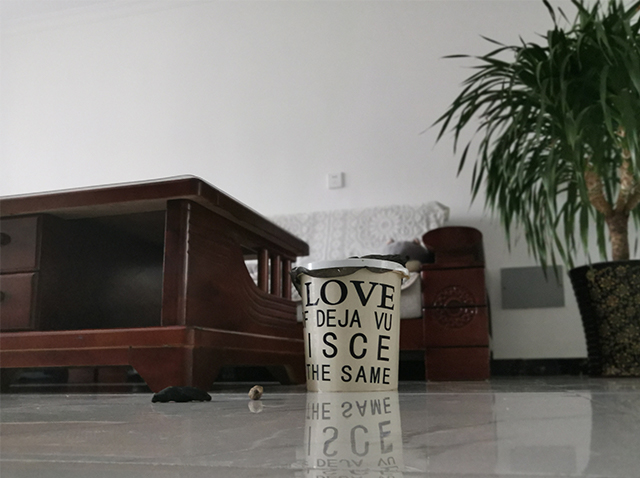feces: (148, 381, 214, 405), (247, 384, 268, 402)
sofa: (301, 197, 489, 386)
table: (1, 171, 311, 397)
trashcan: (291, 255, 411, 395)
